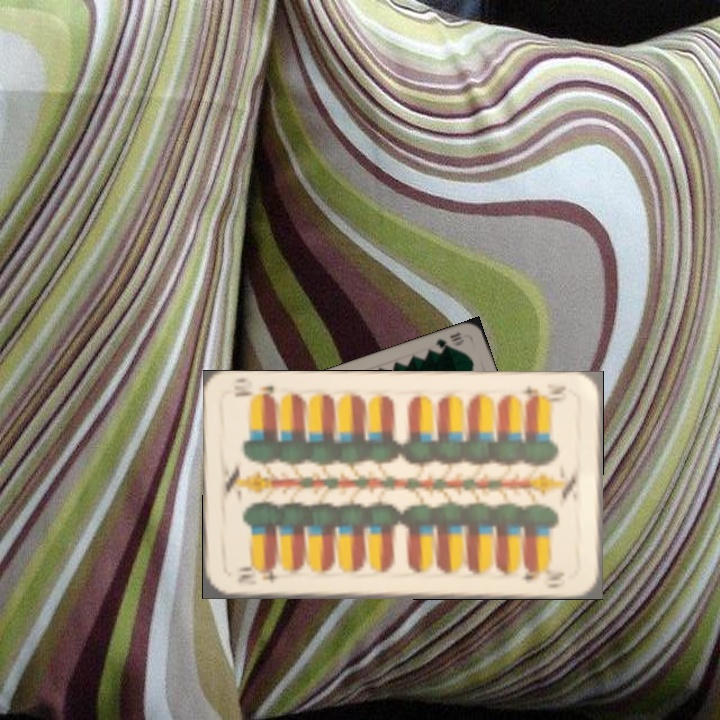E10: (519, 381, 569, 405), (232, 563, 281, 586)
G10: (431, 327, 466, 353)
